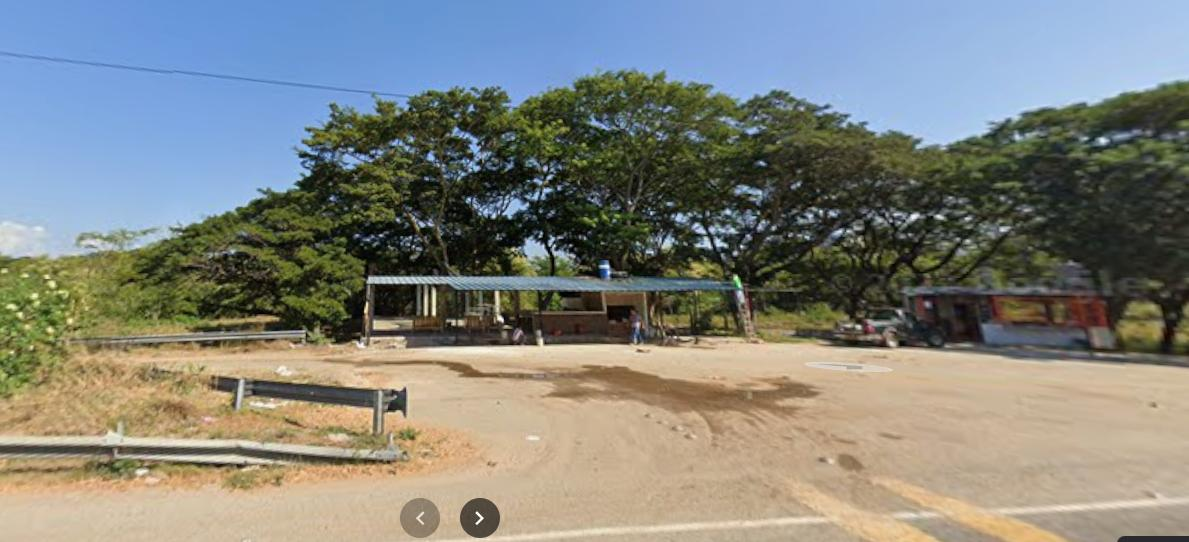casa: (362, 276, 763, 344), (903, 286, 1116, 349)
